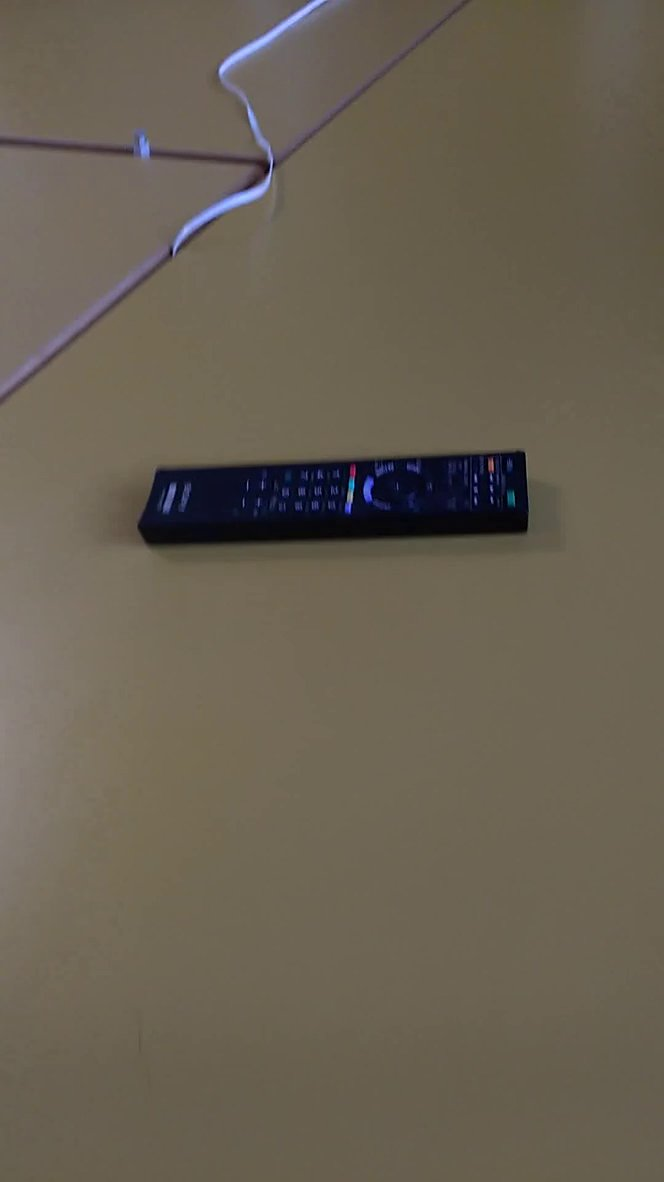remote: (74, 442, 569, 573)
